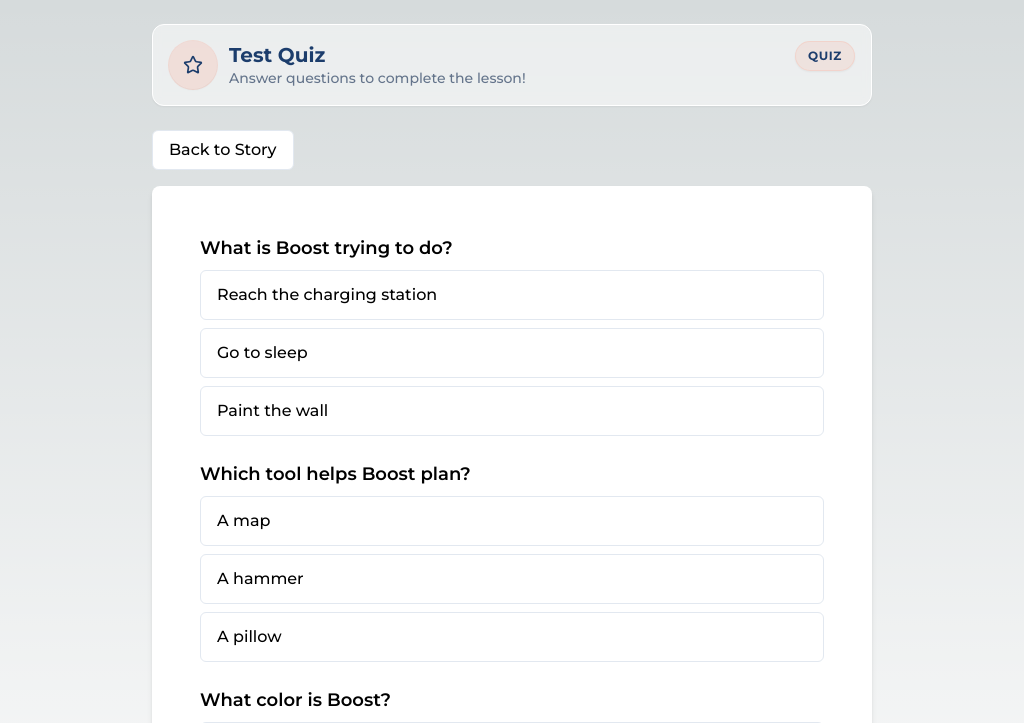
Test: LegacyListQuiz › Submit enabled when all questions answered
The image size is (1024, 723).
Click the button "Reach the charging station" at (327, 294), box [200, 270, 824, 320]
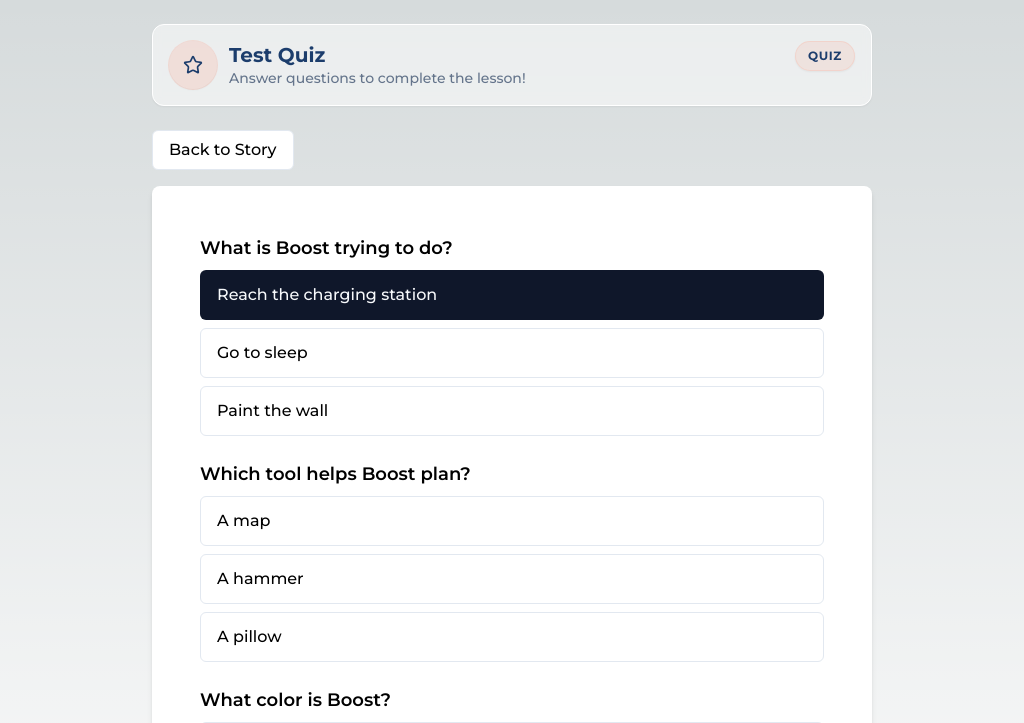
Click the button "A map" at (244, 520), box [200, 496, 824, 546]
(page scrolled)
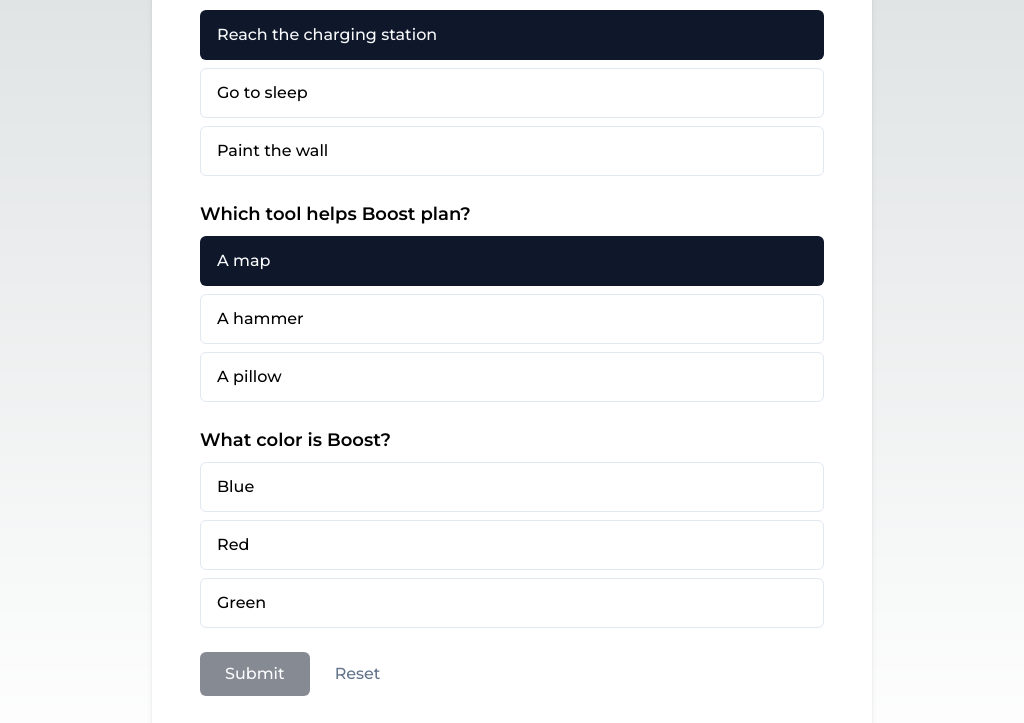
Click the button "Blue" at (236, 486), box [200, 462, 824, 512]
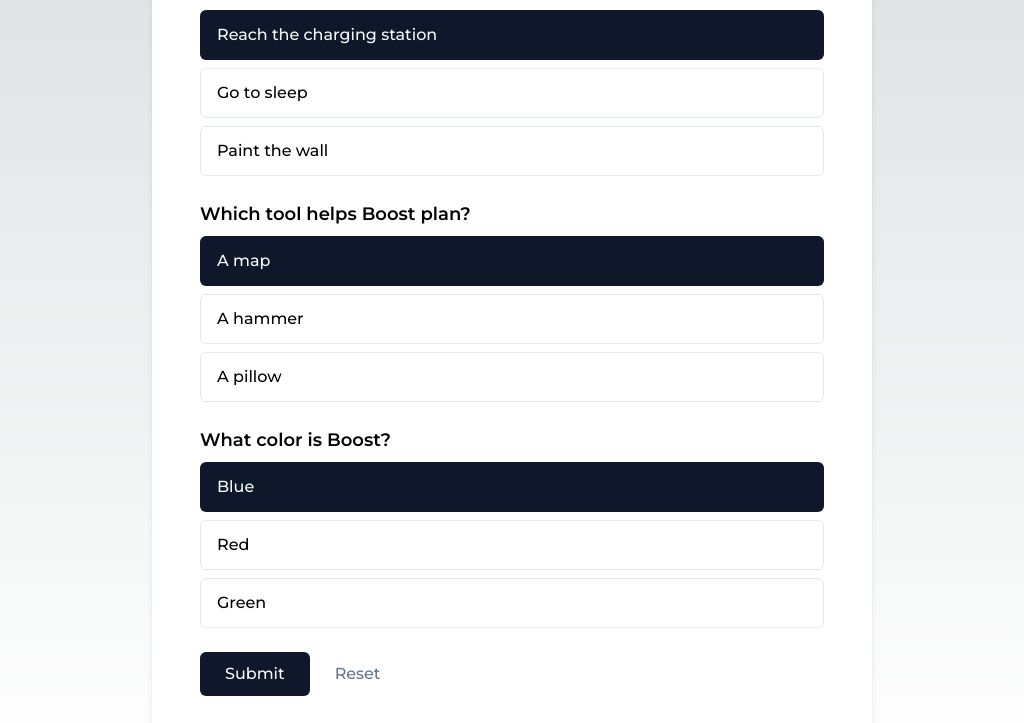
Result: the button "Submit" is enabled at [200, 652, 310, 696]
